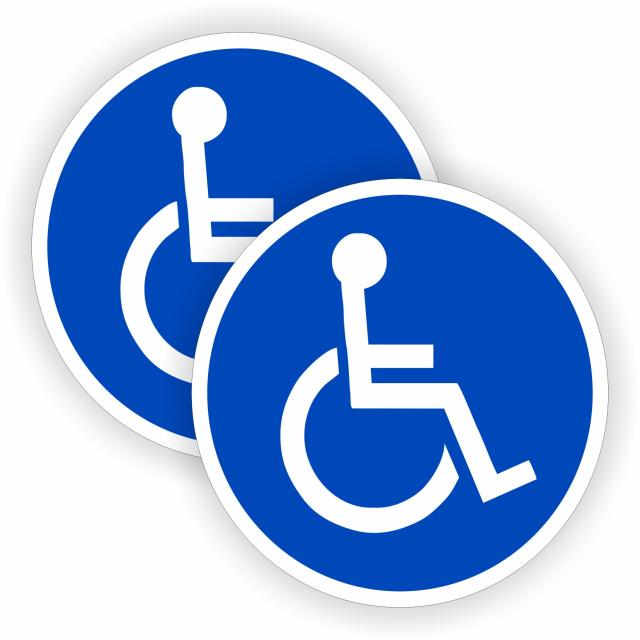symbol_of_access: (279, 229, 543, 542)
